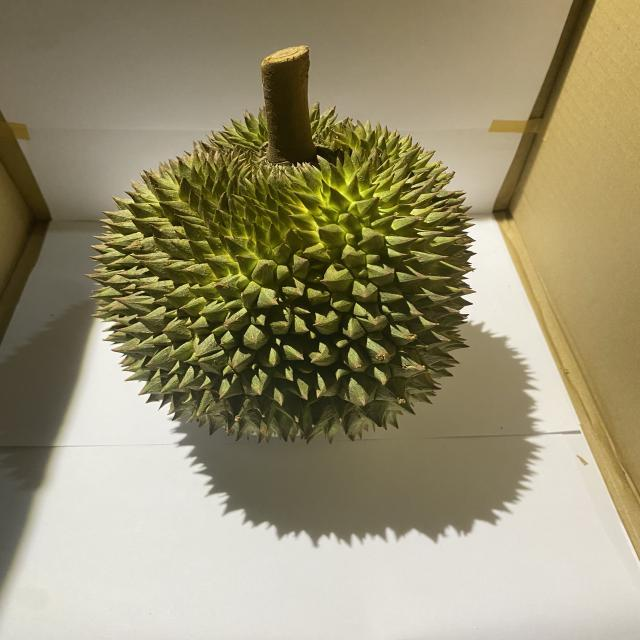immature: (86, 106, 476, 446)
